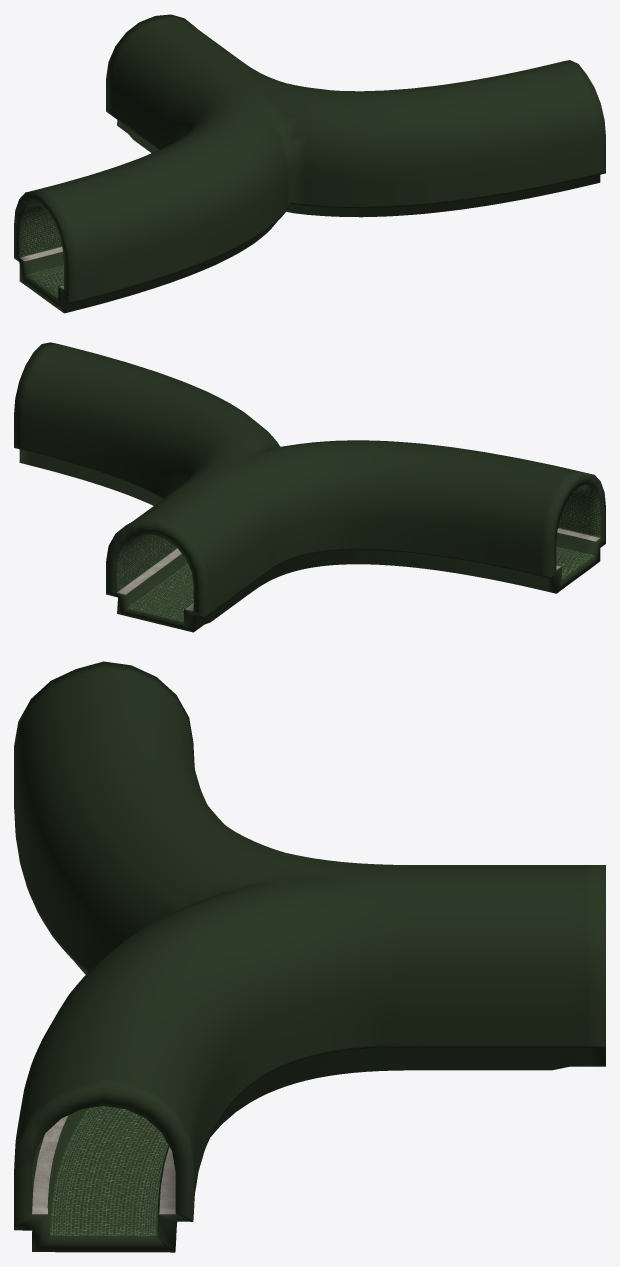
Rendered from SewerModule_Split_1_002.fbx.
The picture shows the model from 3 angles, top to bottom: view 1: azimuth 30°, elevation 25°; view 2: azimuth 150°, elevation 25°; view 3: azimuth 270°, elevation 25°; orthographic projection. The views are drawn at different scales.
Parts seen in each view (by area): view 1: Module_Split_1_002; view 2: Module_Split_1_002; view 3: Module_Split_1_002.
Part boxes in pixels (box(x1,y1,x2,y2)): Module_Split_1_002: box(14, 14, 605, 313); Module_Split_1_002: box(14, 342, 605, 632); Module_Split_1_002: box(14, 661, 605, 1252).
Bounding box in the file's own units: 5604 × 1025 × 3301.
